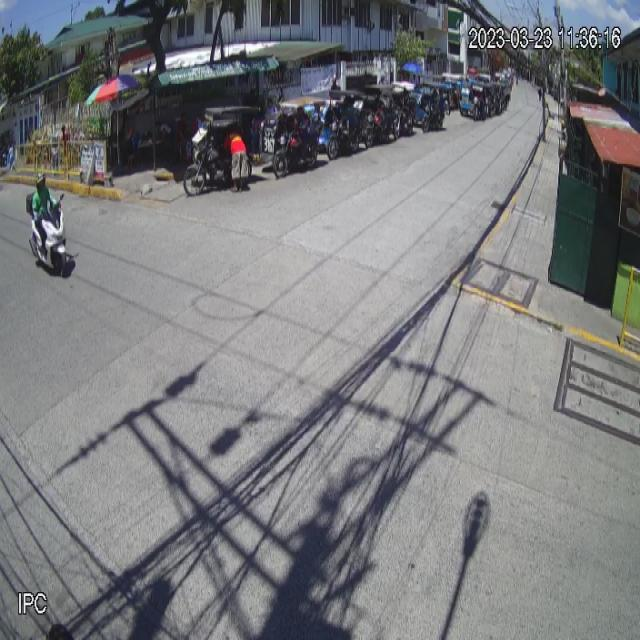Motorcycle: (25, 190, 68, 280)
